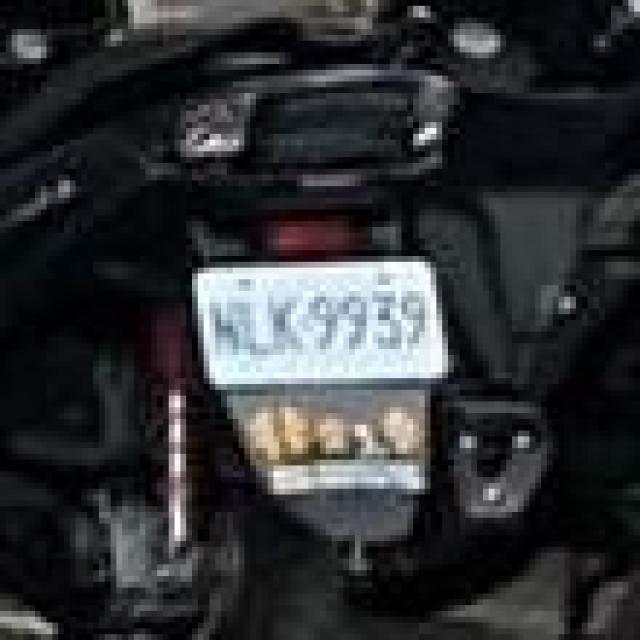W: (180, 233, 466, 413)
